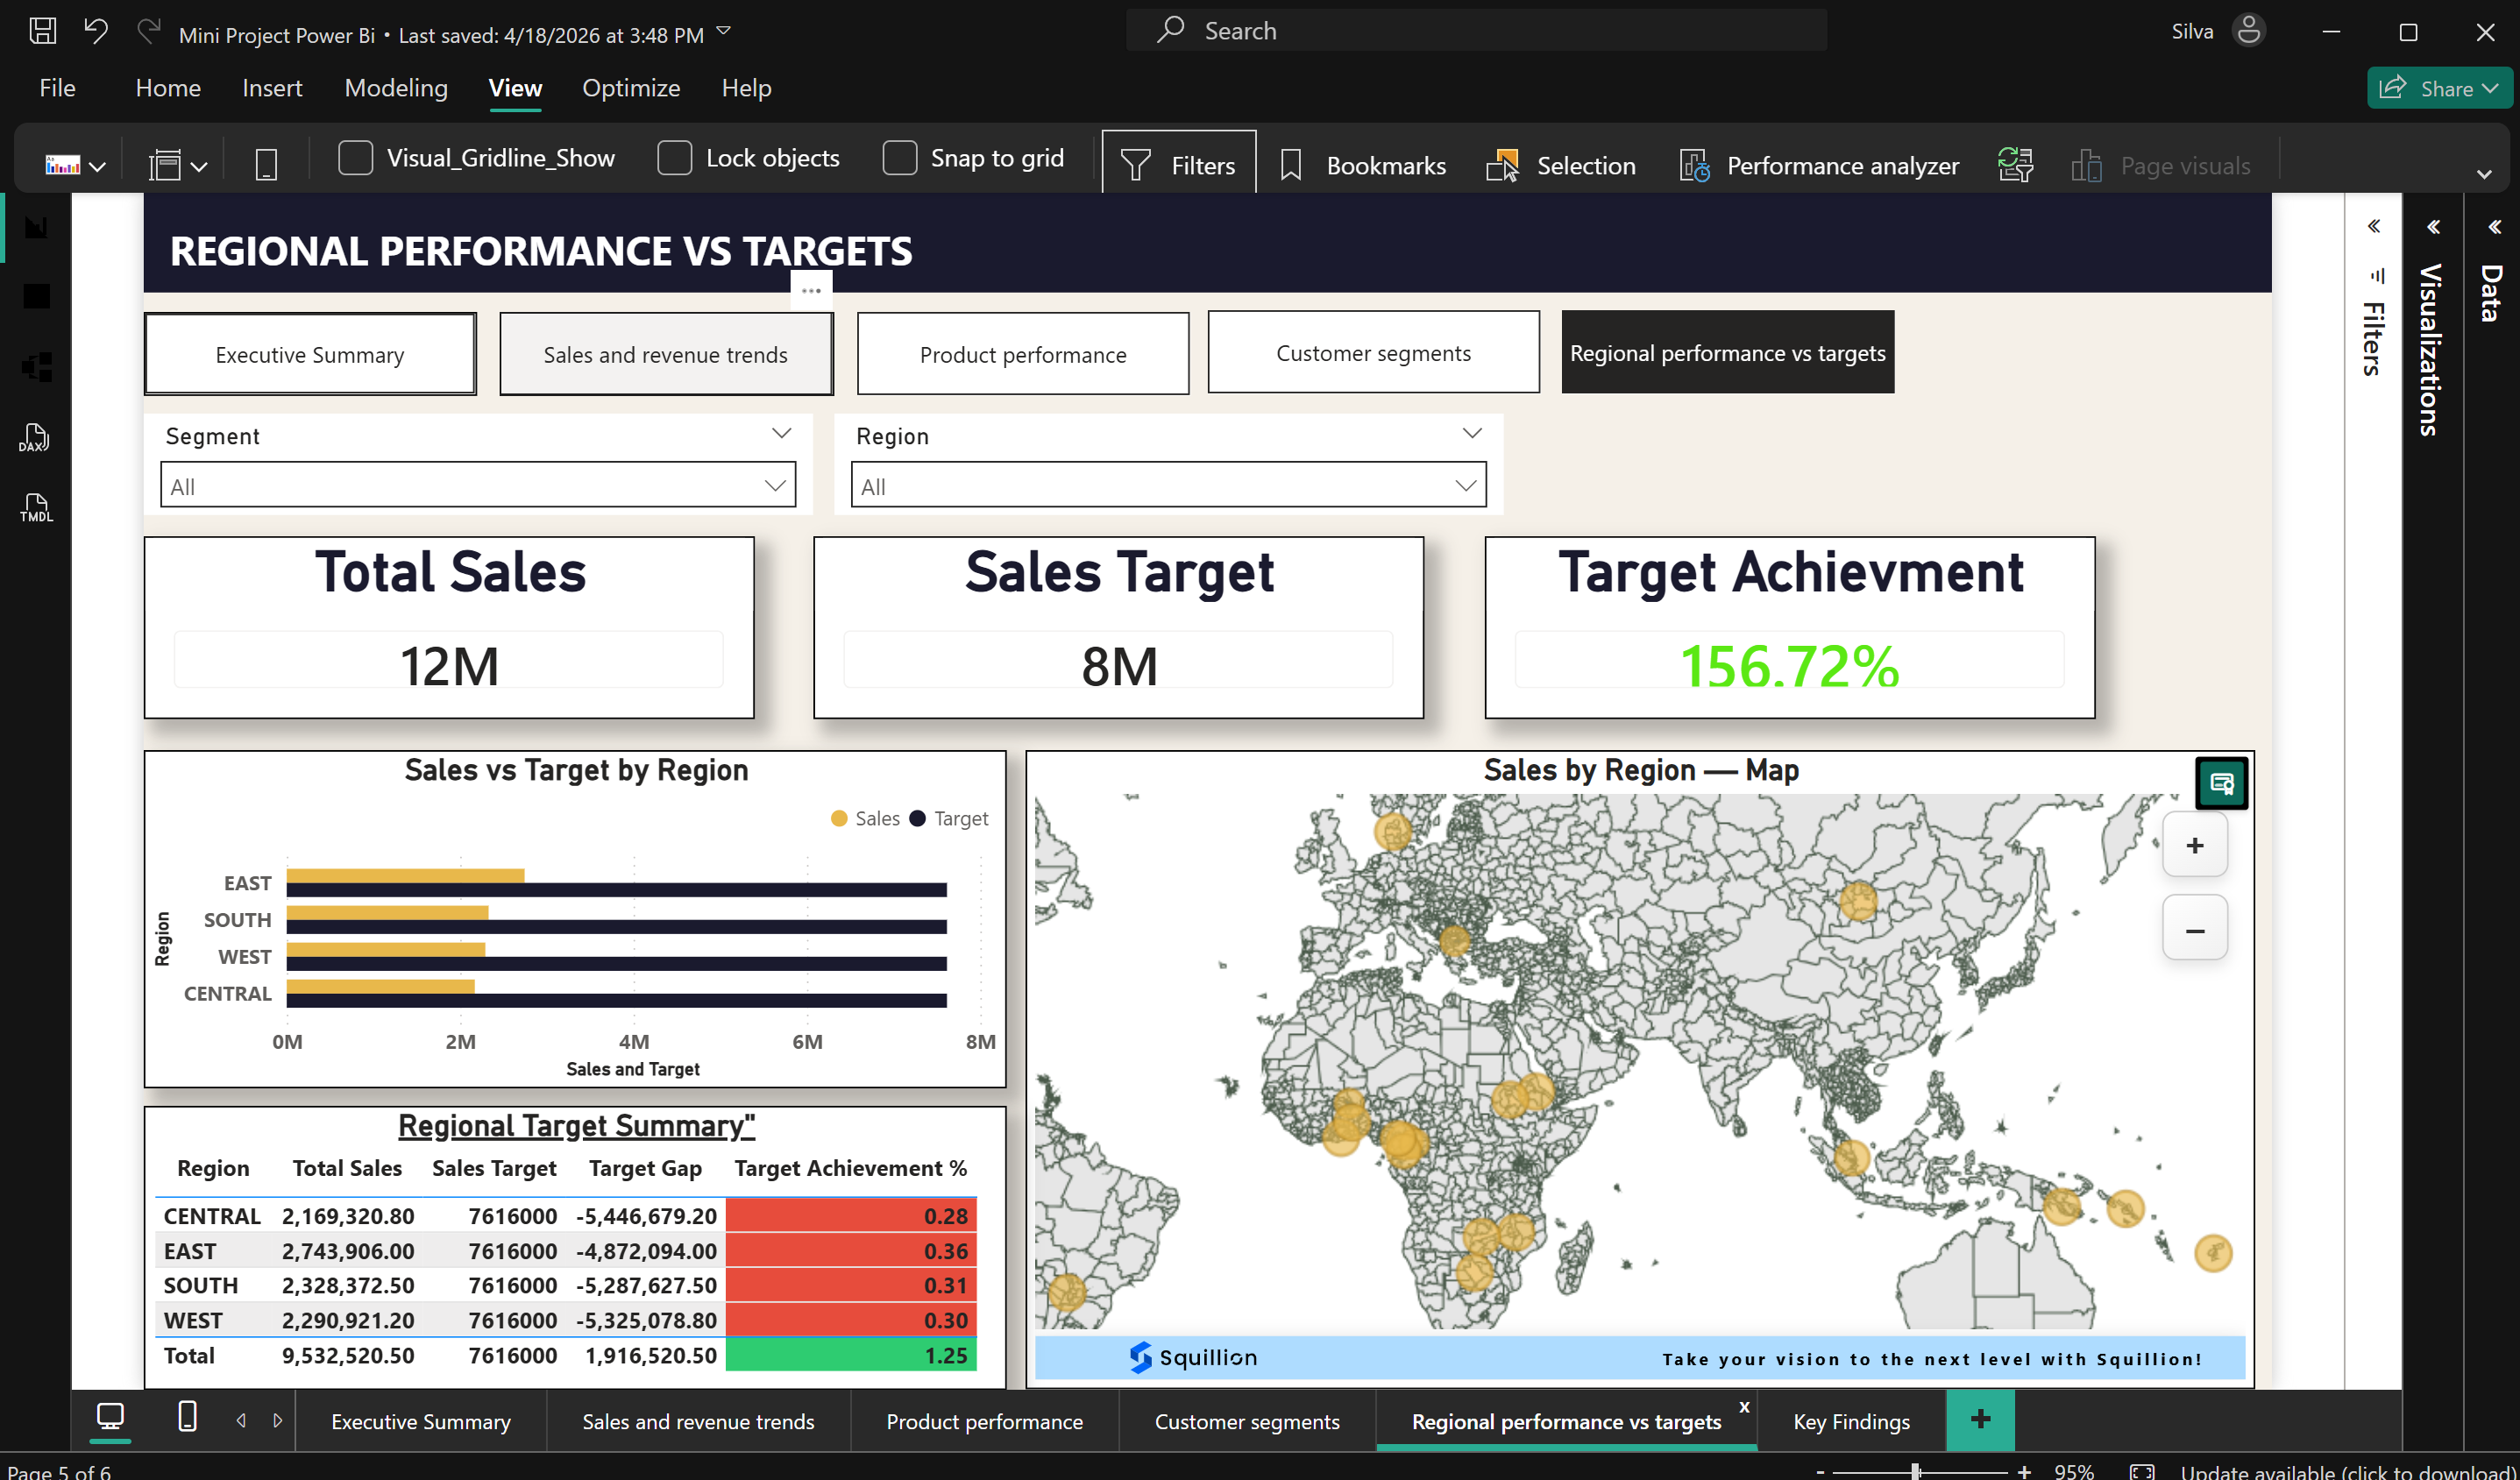

The page's visual inventory and layout, read from the dashboard file:
{"tool":"powerbi","page":{"name":"Regional performance vs targets","canvas":[1280,720],"ordinal":4},"visuals":[{"type":"shape","box":[0,0,1280,60],"z":0},{"type":"pageNavigator","box":[0,72,200.6,50.5],"z":1000},{"type":"pageNavigator","box":[214.4,72,200.6,50.5],"z":2000},{"type":"pageNavigator","box":[428.7,72,200.6,50.5],"z":3000},{"type":"pageNavigator","box":[640,70.4,200.6,50.5],"z":4000},{"type":"pageNavigator","box":[852.8,70.4,200.6,50.5],"z":5000},{"type":"textbox","box":[10.7,12.2,473.1,47.5],"z":6000},{"type":"slicer","fields":{"Values":["Customers.Segment"]},"box":[0,133.2,402.7,61.2],"z":7000},{"type":"slicer","fields":{"Values":["Customers.Region"]},"box":[414.9,133.2,402.7,61.2],"z":8000},{"type":"cardVisual","title":"Total Sales","fields":{"Data":["Key Measures.Total Sales"]},"box":[0,206.7,367.5,110.2],"z":9000},{"type":"cardVisual","title":"Sales Target","fields":{"Data":["Key Measures.Sales Target"]},"box":[402.7,206.7,367.5,110.2],"z":10000},{"type":"cardVisual","title":"Target Achievment","fields":{"Data":["Key Measures.Target Achievement %"]},"box":[806.9,206.7,367.5,110.2],"z":11000},{"type":"clusteredBarChart","title":"Sales vs Target by Region","fields":{"Category":["Customers.Region"],"Y":["Key Measures.Total Sales","Key Measures.Sales Target"]},"box":[0,335.3,519,203.6],"z":12000},{"type":"MapBySquillion","title":"Sales by Region — Map","fields":{"category":["Customers.Region"],"value":["Key Measures.Total Sales"],"bubble":["Key Measures.Total Sales"]},"box":[529.8,335.3,739.5,384.3],"z":13000},{"type":"tableEx","title":"Regional Target Summary\"","fields":{"Values":["Customers.Region","Key Measures.Total Sales","Key Measures.Sales Target","Key Measures.Target Gap","Key Measures.Target Achievement %"]},"box":[0,549,519,171],"z":14000}]}

Visuals, with their boxes on the page's 1280x720 design canvas (x1, y1, x2, y2). These are canvas units, not pixel positions in the 2520x1480 screenshot, which may show the page scaled, cropped or inside an application window:
shape: 0:0:1280:60
pageNavigator: 0:72:201:122
pageNavigator: 214:72:415:122
pageNavigator: 429:72:629:122
pageNavigator: 640:70:841:121
pageNavigator: 853:70:1053:121
textbox: 11:12:484:60
slicer - Customers.Segment: 0:133:403:194
slicer - Customers.Region: 415:133:818:194
"Total Sales" cardVisual: 0:207:368:317
"Sales Target" cardVisual: 403:207:770:317
"Target Achievment" cardVisual: 807:207:1174:317
"Sales vs Target by Region" clusteredBarChart: 0:335:519:539
"Sales by Region — Map" MapBySquillion: 530:335:1269:720
"Regional Target Summary"" tableEx: 0:549:519:720
